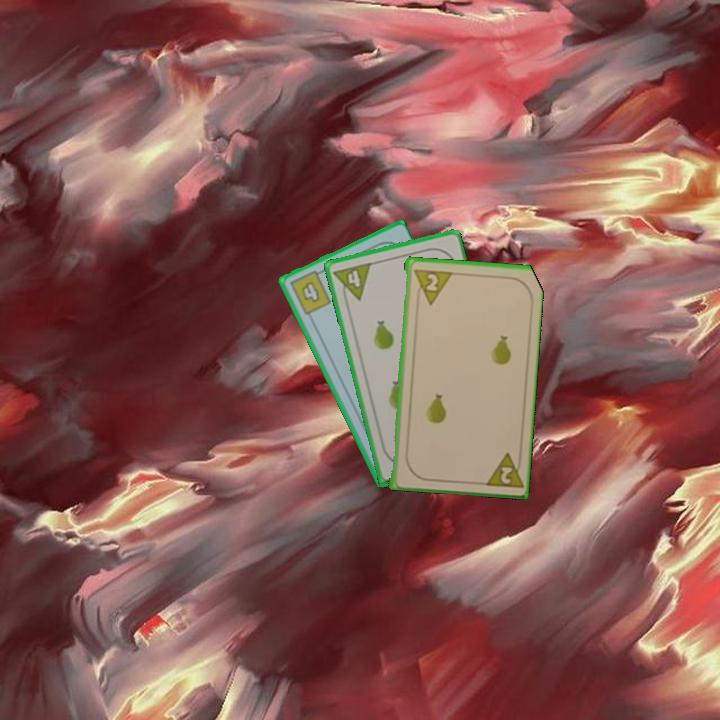2p: (479, 448, 524, 491), (410, 265, 453, 307)
4b: (286, 266, 334, 318)
4p: (330, 259, 374, 306)
